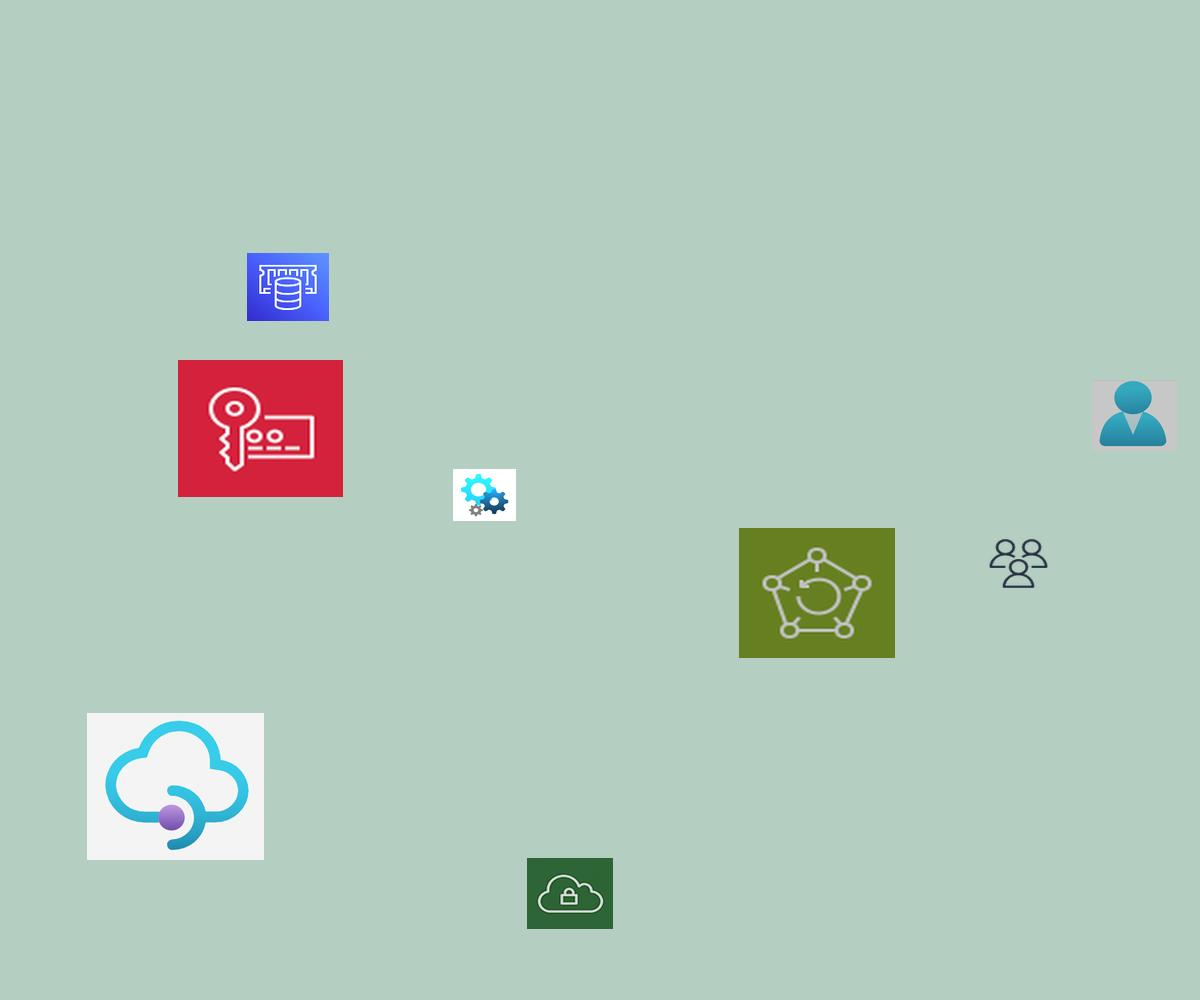AWS-Backup: (739, 528, 895, 658)
AWS-ElastiCache: (247, 253, 329, 321)
AWS-Key-Management-Service: (178, 360, 343, 497)
AWS-Private_vpc: (527, 858, 613, 929)
AWS-Res_Users: (987, 537, 1050, 590)
Azure_api: (453, 469, 516, 521)
Azure_api_gateway: (87, 713, 264, 860)
Azure_users: (1092, 380, 1177, 451)
